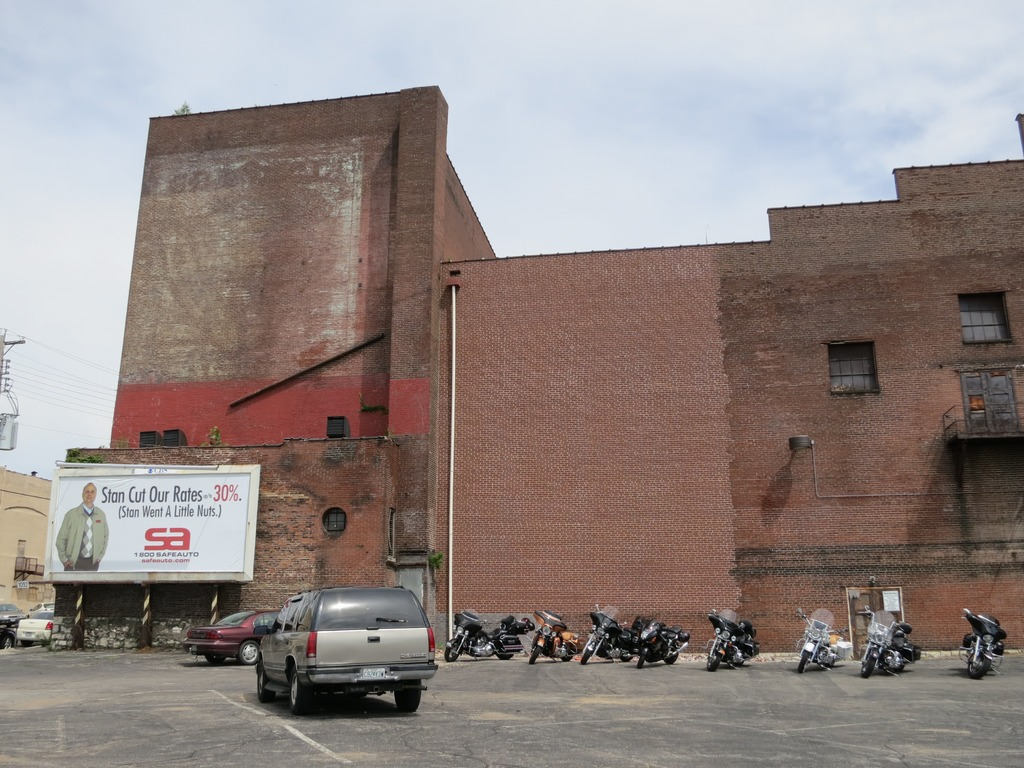Car: (257, 586, 442, 716), (184, 602, 277, 663), (12, 603, 67, 648), (0, 593, 23, 645), (0, 620, 17, 650), (1, 601, 24, 620), (30, 602, 54, 611)
